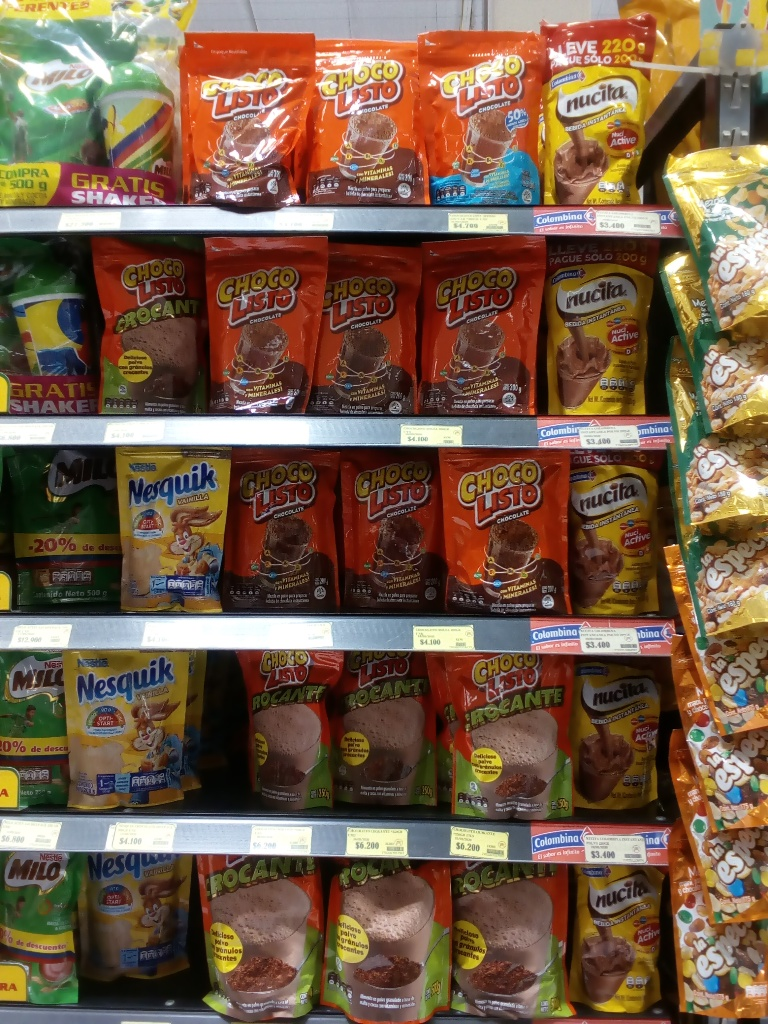COL0170102DYP25000: (96, 239, 205, 416)
COL0170102DYP50000: (197, 857, 323, 1020)
COL0170104DYP20000: (430, 26, 542, 205)
COL0170203DYP50000: (3, 2, 101, 165)
COL0170306DYP20000: (122, 446, 235, 620)
